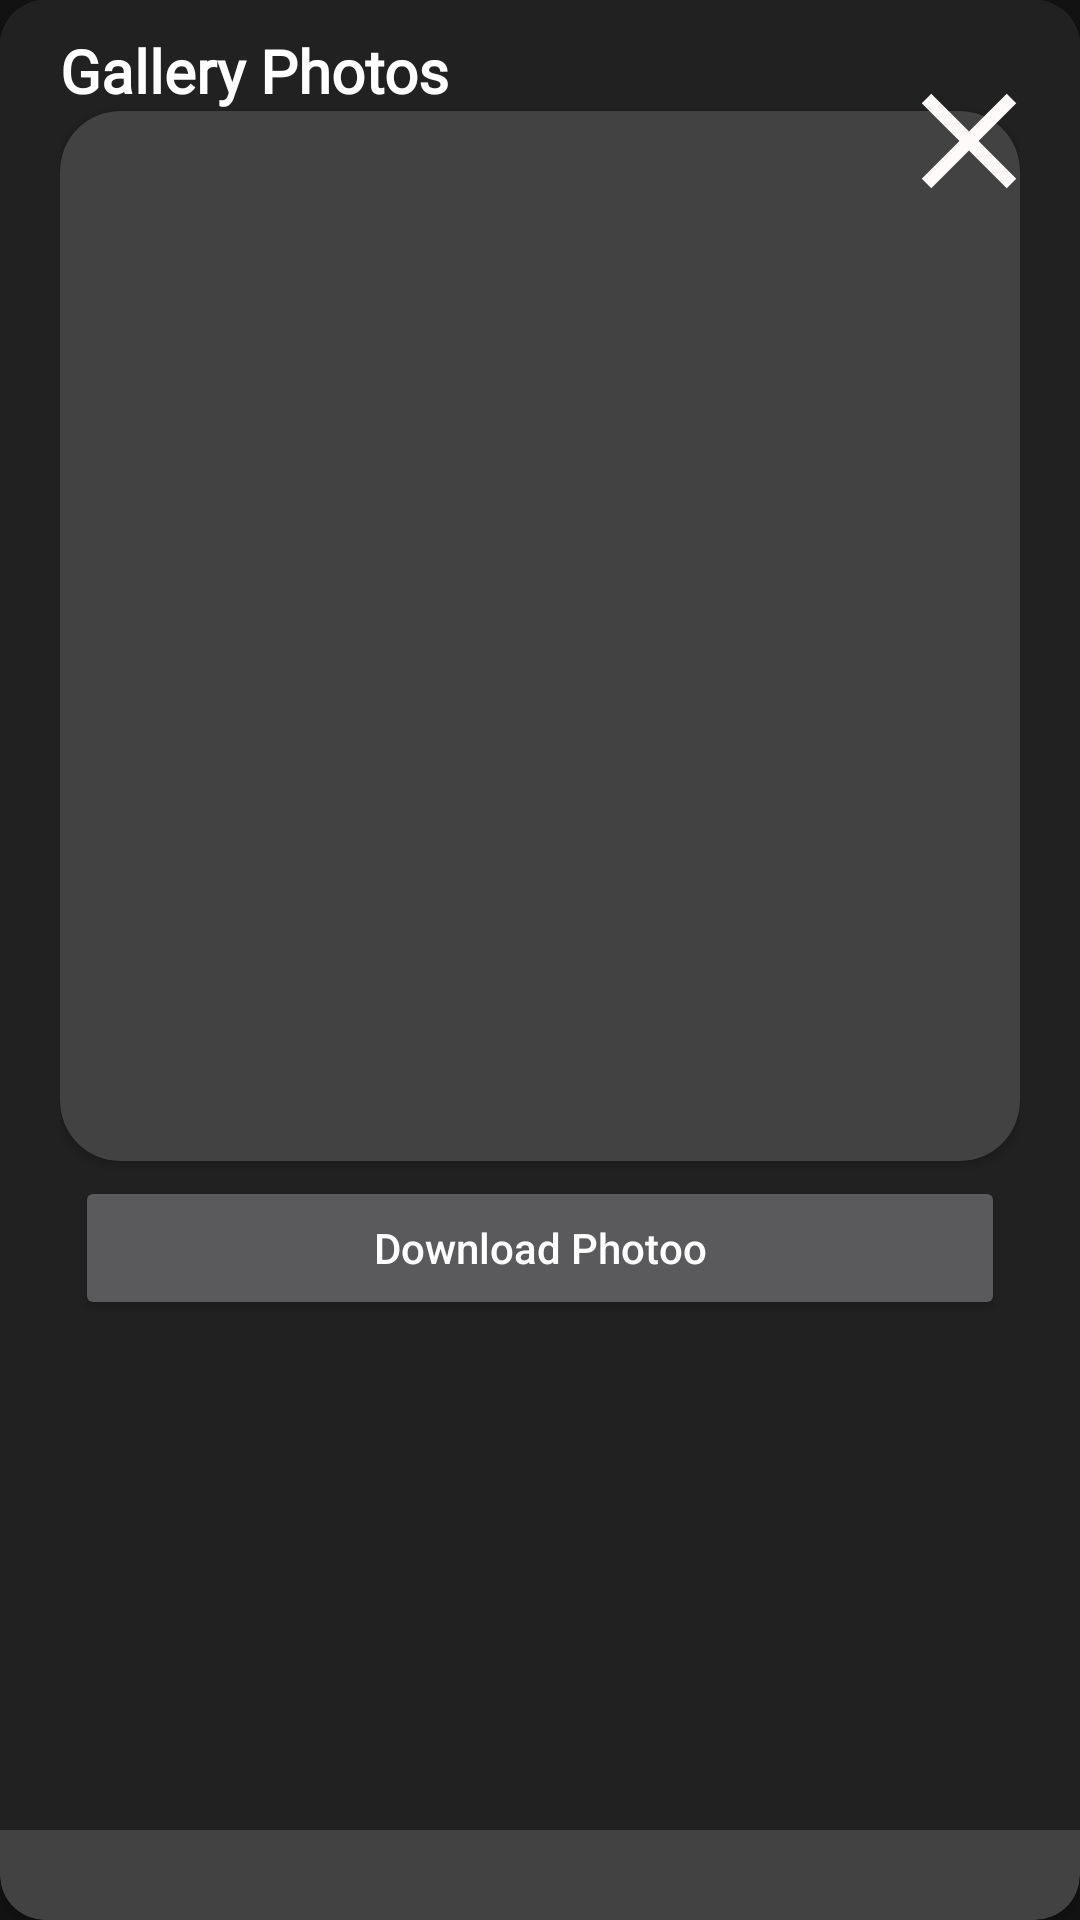

Point at icon controls on the screen. Image size 1080*1920, points as point (x, y).
close: point (939, 173)
